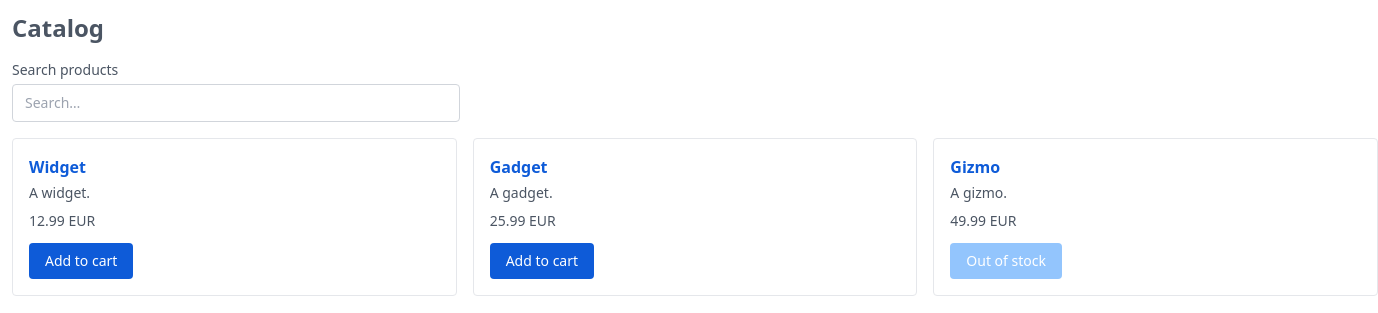
Test: ProductGrid › filters via search
Expected: the link "Widget" is shown, [29,156,86,178]
Type "gad" into the search field labelled "Search products" at (236, 103), box [12,84,460,122]
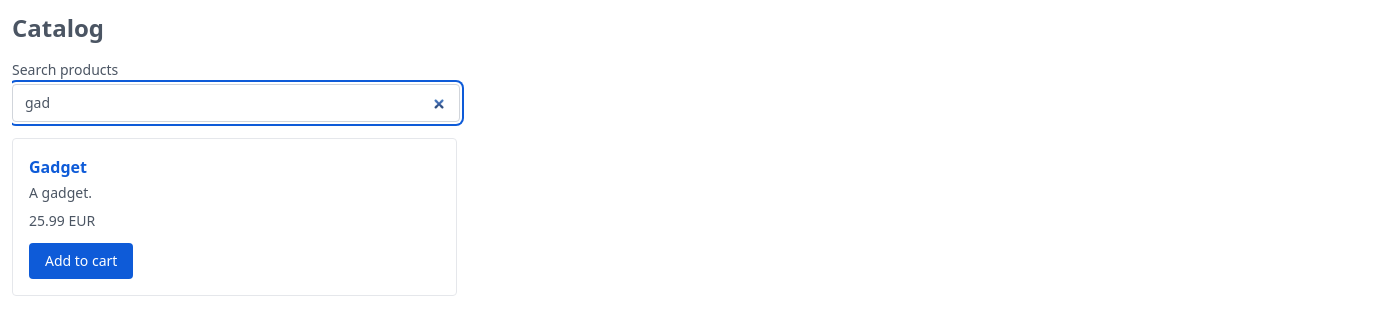
Expected: the link "Gadget" is shown, [29,156,87,178]
Result: the link "Widget" is gone
